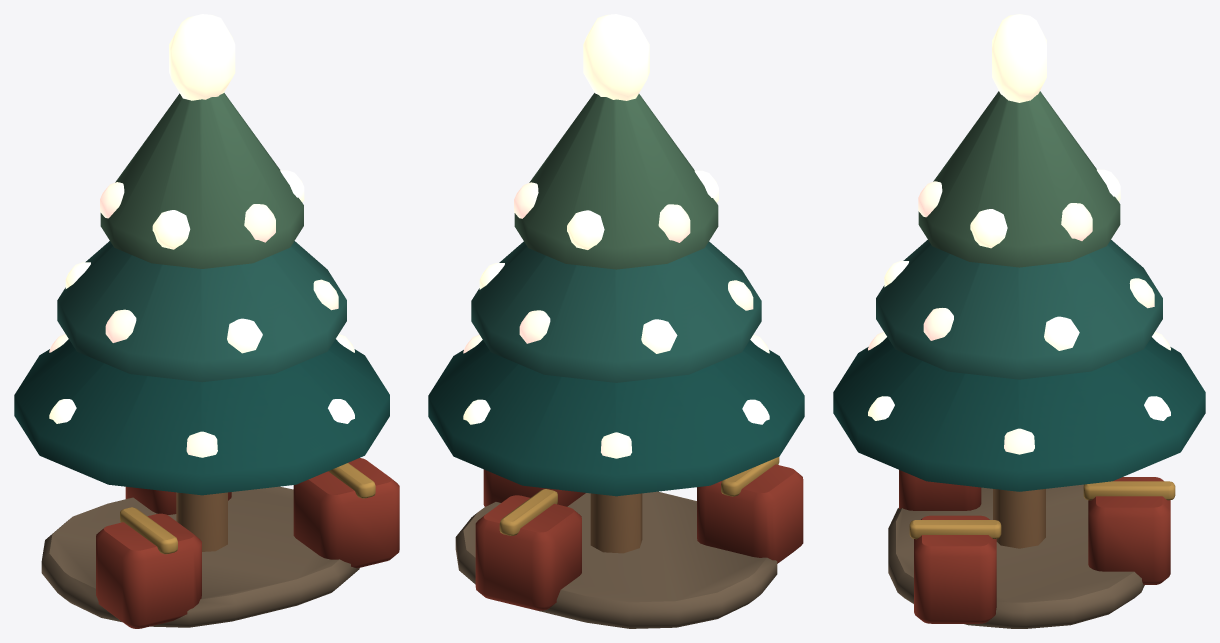
The model's file is event_holiday.glb.
3 views of the same model, side by side, from view 1: azimuth 30°, elevation 25°; view 2: azimuth 150°, elevation 25°; view 3: azimuth 270°, elevation 25° (orthographic).
Visible parts, largest first — view 1: EventHoliday; view 2: EventHoliday; view 3: EventHoliday.
Part boxes in pixels (x1=…): EventHoliday: x1=14, y1=14, x2=399, y2=628; EventHoliday: x1=428, y1=14, x2=804, y2=628; EventHoliday: x1=833, y1=14, x2=1205, y2=628.
Bounding box in the file's own units: 1.22 × 1.98 × 1.22.
